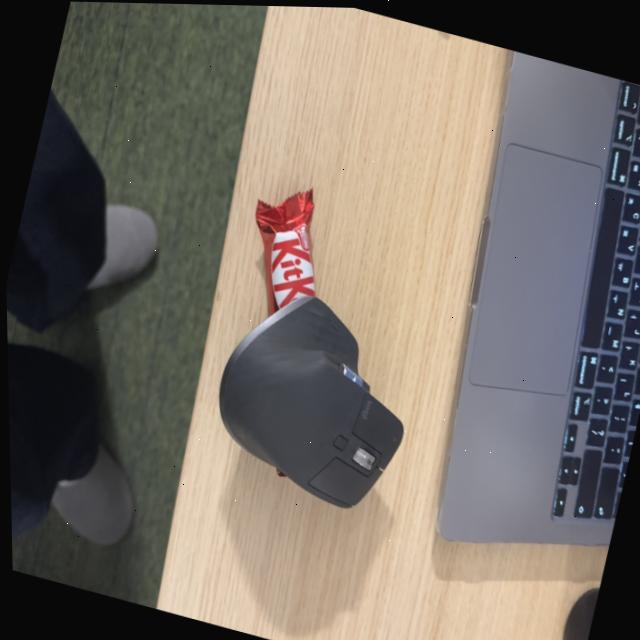chocolate: (219, 166, 341, 346)
